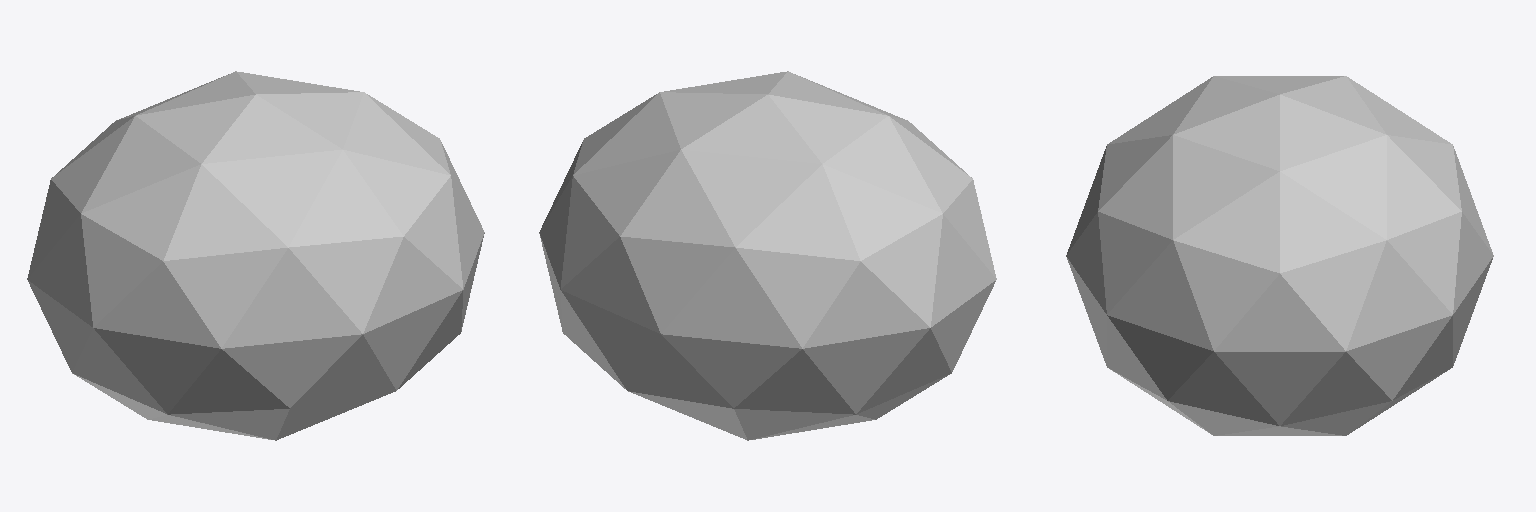
File: gem_type_4.obj
The picture shows the model from 3 angles: view 1: azimuth 30°, elevation 25°; view 2: azimuth 150°, elevation 25°; view 3: azimuth 270°, elevation 25°; orthographic projection.
Visible parts, largest first — view 1: gem_type_4; view 2: gem_type_4; view 3: gem_type_4.
Boxes of the visible parts, x1=… form: gem_type_4: x1=27, y1=71, x2=484, y2=440; gem_type_4: x1=539, y1=71, x2=996, y2=440; gem_type_4: x1=1066, y1=76, x2=1493, y2=435.
Bounding box in the file's own units: 0.7608 × 0.6 × 0.72.